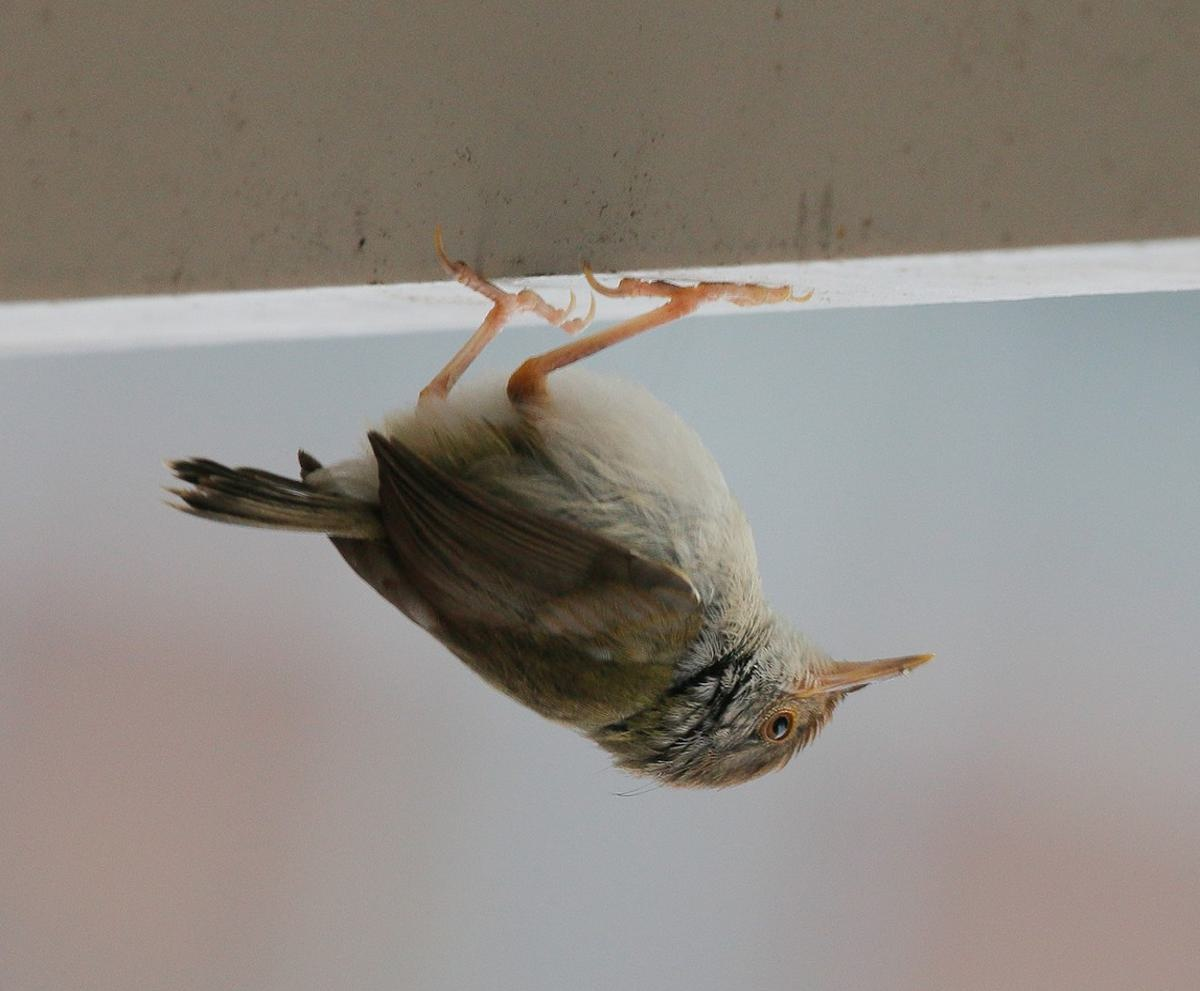tailorbird: (174, 258, 933, 796)
